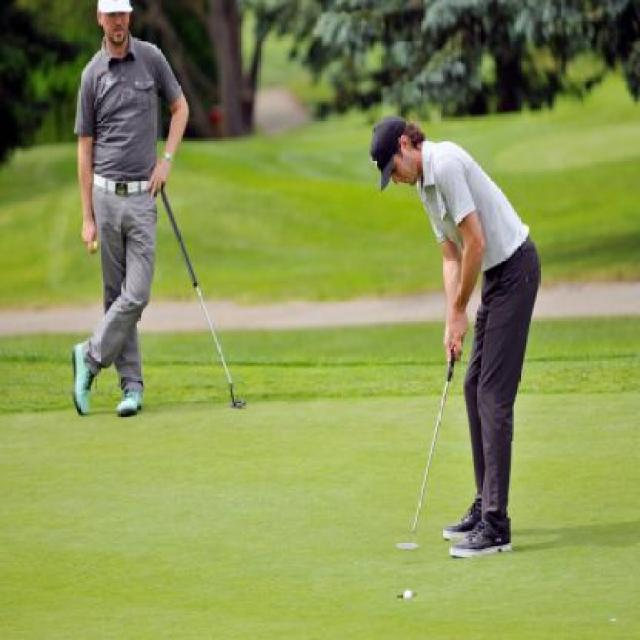club head: (394, 537, 420, 552)
